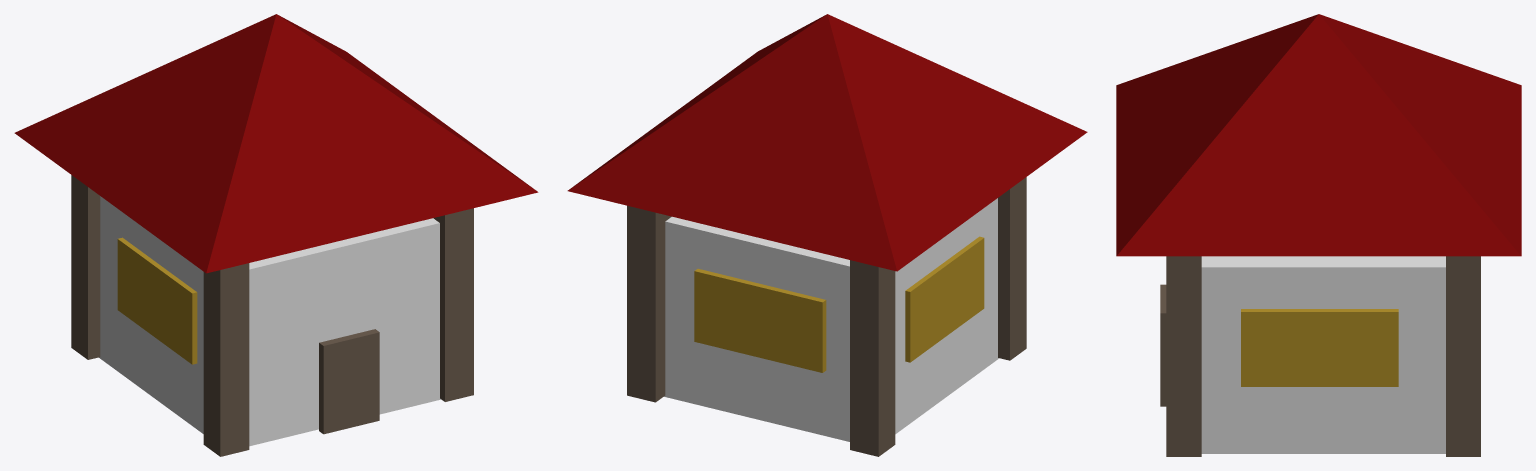
The model's file is House H.fbx.
The picture shows the model from 3 angles, left to right: view 1: azimuth 30°, elevation 25°; view 2: azimuth 150°, elevation 25°; view 3: azimuth 270°, elevation 25°; orthographic projection. The views are drawn at different scales.
Parts seen in each view (by area): view 1: pCone1, pCube1, pCube3, pCube2, pCube8, pCube6, pCube4; view 2: pCone1, pCube1, pCube9, pCube4, pCube5, pCube8, pCube3; view 3: pCone1, pCube1, pCube7, pCube2, pCube5, pCube6.
Boxes of the visible parts, x1,y1,x2,y2 form: pCone1: [14, 14, 538, 273]; pCube1: [99, 196, 440, 446]; pCube3: [203, 263, 249, 456]; pCube2: [433, 208, 473, 401]; pCube8: [117, 237, 197, 364]; pCube6: [319, 329, 379, 434]; pCube4: [71, 175, 100, 359]; pCone1: [567, 14, 1087, 271]; pCube1: [664, 198, 999, 441]; pCube9: [694, 268, 826, 372]; pCube4: [850, 260, 895, 456]; pCube5: [627, 205, 671, 402]; pCube8: [905, 236, 984, 362]; pCube3: [998, 177, 1026, 360]; pCone1: [1116, 14, 1521, 256]; pCube1: [1201, 256, 1445, 453]; pCube7: [1241, 309, 1398, 386]; pCube2: [1166, 256, 1201, 456]; pCube5: [1446, 256, 1480, 456]; pCube6: [1160, 284, 1166, 406].
Bounding box in the file's own units: 11.5 × 11.91 × 11.5.
